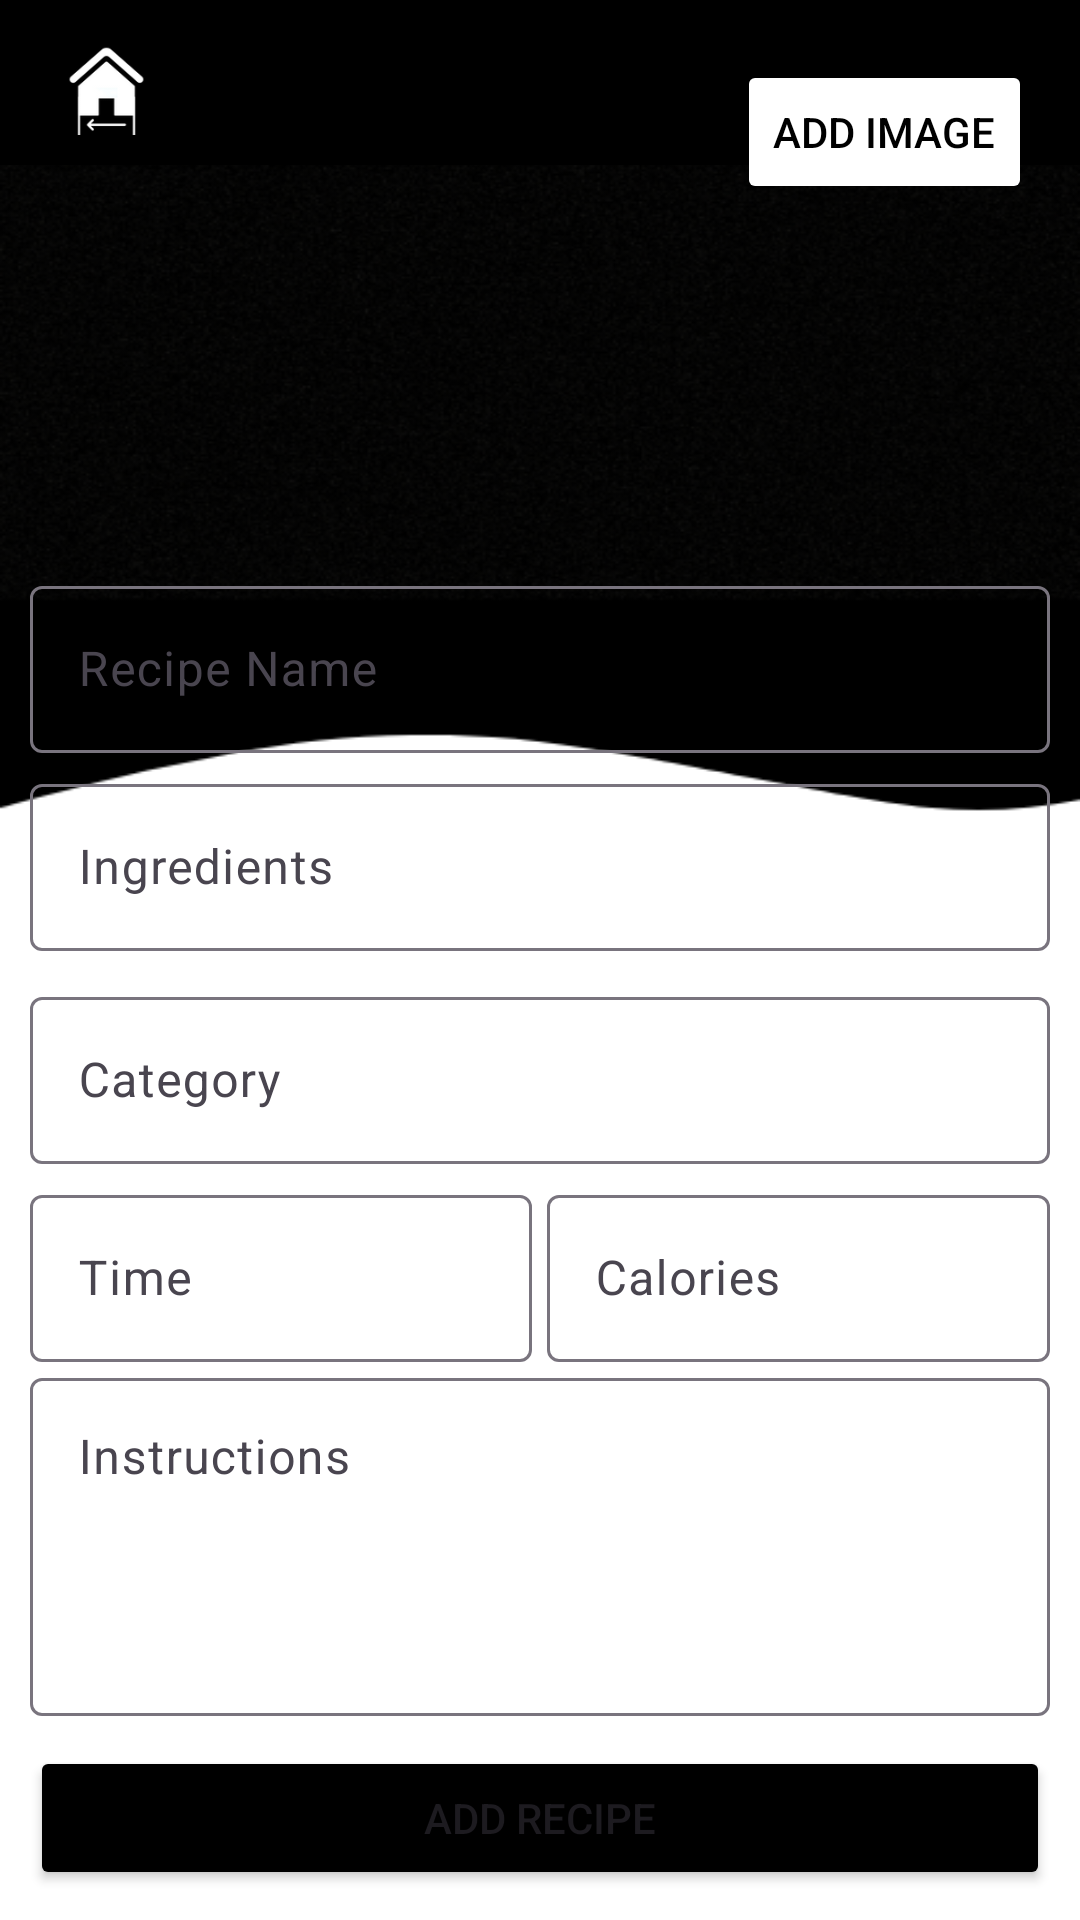

Screen size 1080 x 1920. Icon name, then its box in pixels as rect(x1, y1, x2, y2):
backhome: rect(69, 47, 144, 135)
